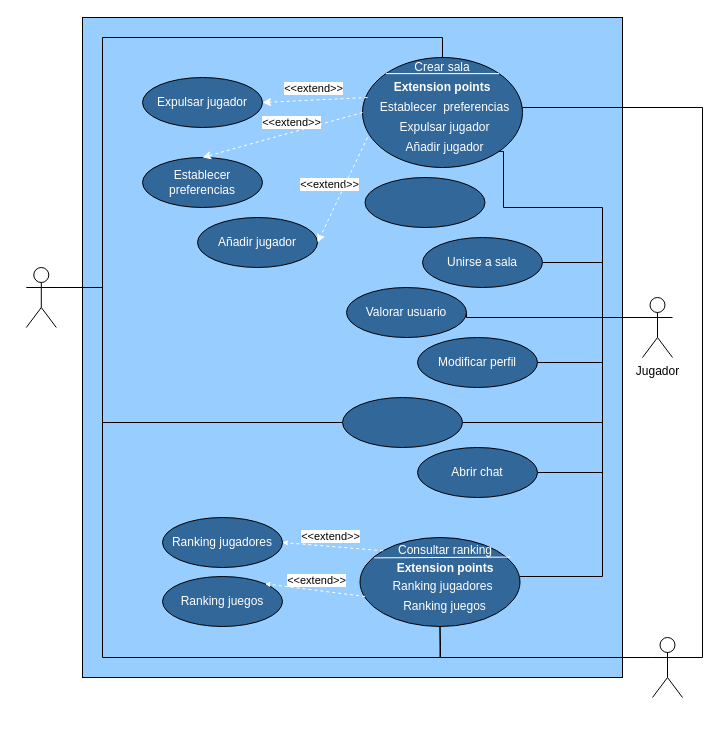
This 722x736 diagram has some shape labels left out. Each missing label, with the box of its shape:
Administrador: (652, 636, 682, 698)
Buscar juego: (364, 176, 485, 228)
Empresa: (25, 266, 56, 328)
Visitar perfil: (342, 396, 462, 448)
